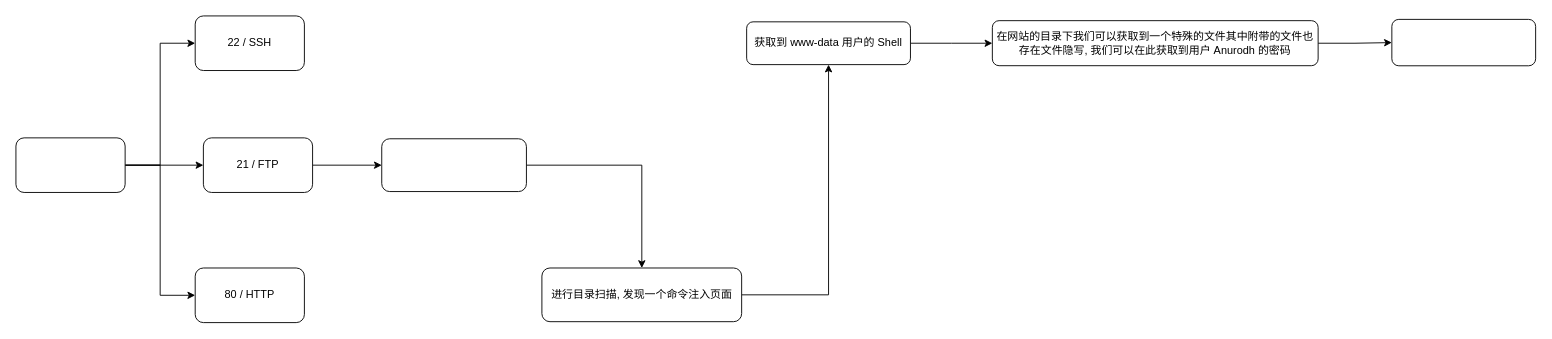
This 1552x339 diagram has some shape labels left out. The shapes that lost their labels are listed below. From the top down, each one's centre as x and y in pixels, then its label:
(1463,42): 用户 anurodh 是 docker 组用户我们可以借此完成提权
(70,164): 端口扫描
(453,165): 访问匿名共享, 我们得到一点提示告诉我们存在命令注入并且做了过滤
